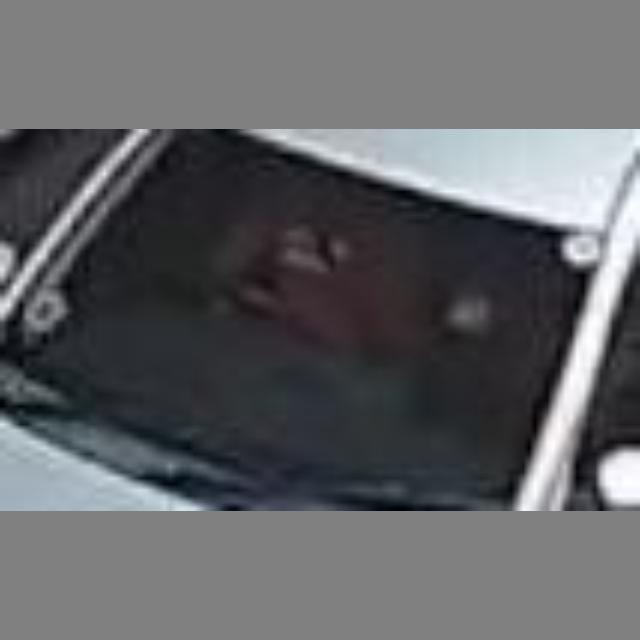pakai: (197, 165, 437, 398)
